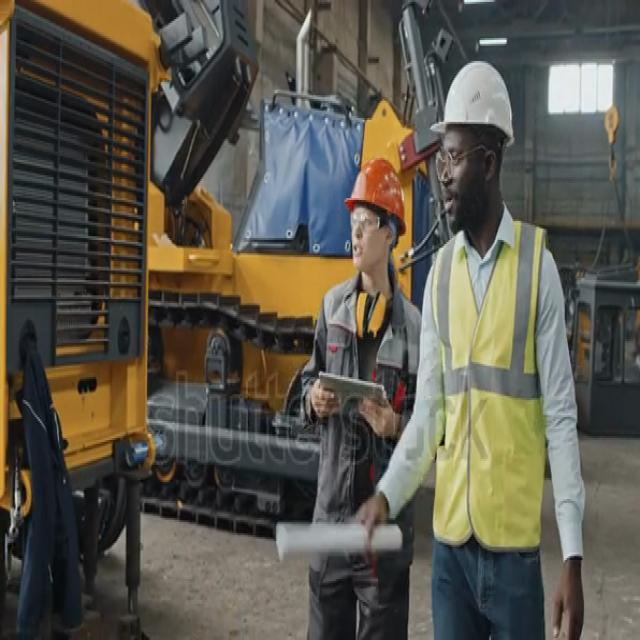goggles: (432, 142, 471, 176), (349, 208, 387, 235)
